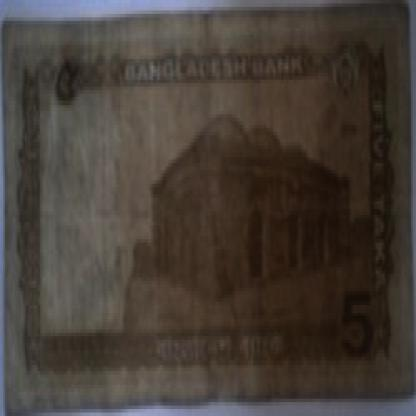Five Taka: (331, 278, 381, 367), (43, 48, 87, 114)
